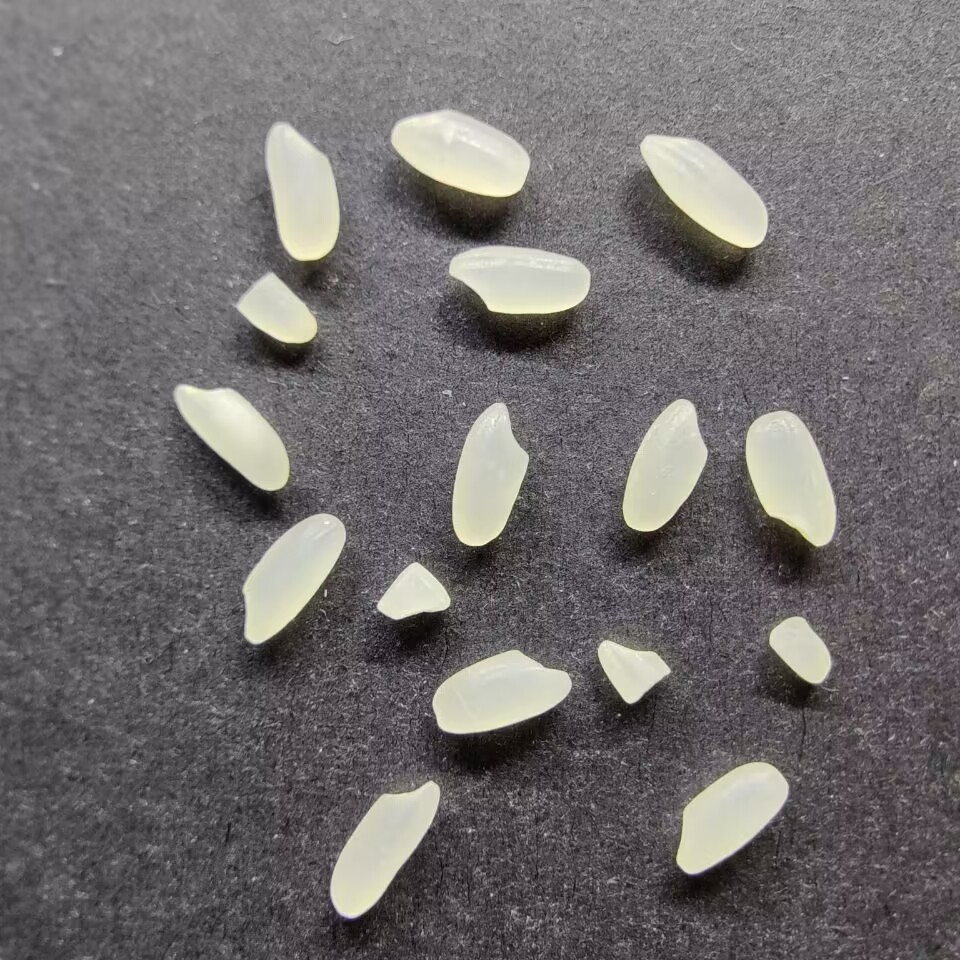broken: (232, 271, 320, 345), (595, 637, 672, 705), (767, 615, 833, 687), (376, 560, 450, 623)
rice: (329, 779, 441, 919), (638, 133, 769, 247), (241, 510, 346, 645), (674, 761, 789, 877), (171, 383, 291, 492), (389, 106, 530, 197), (744, 410, 837, 546), (620, 398, 710, 534), (431, 648, 571, 735), (449, 399, 530, 549), (263, 122, 342, 262), (446, 244, 591, 316)
